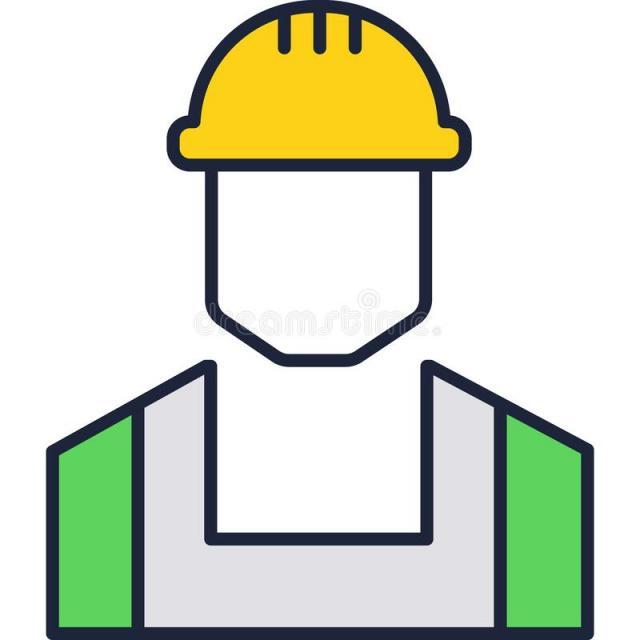safety_helmet: (170, 5, 474, 169)
